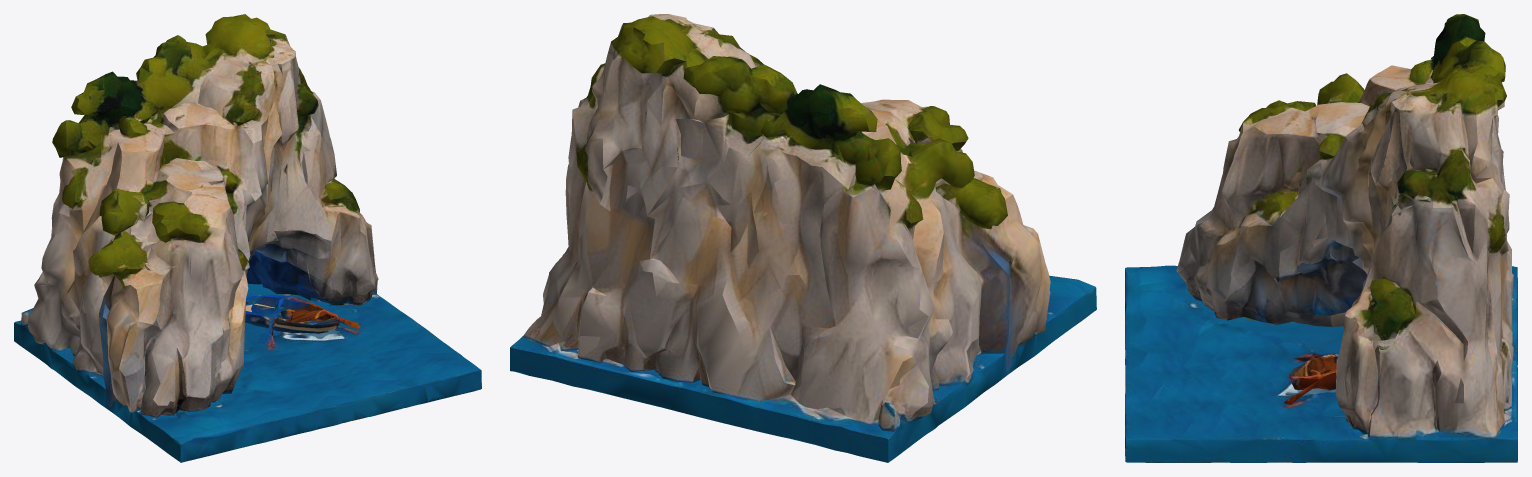
The model's file is blue-grotto.glb.
The picture shows the model from 3 angles, left to right: view 1: azimuth 30°, elevation 25°; view 2: azimuth 150°, elevation 25°; view 3: azimuth 270°, elevation 25°; orthographic projection. The views are drawn at different scales.
Parts seen in each view (by area): view 1: logan-textured.obj; view 2: logan-textured.obj; view 3: logan-textured.obj.
Part boxes in pixels (box(x1,y1,x2,y2)): logan-textured.obj: box(14, 14, 481, 462); logan-textured.obj: box(510, 14, 1096, 462); logan-textured.obj: box(1125, 14, 1517, 462).
Size of the model in its own units: 1 by 0.8666 by 0.9153.
Materials: 1 (1 with a texture image).
